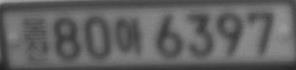0: (84, 15, 111, 59)
3: (185, 12, 213, 56)
6: (154, 13, 184, 57)
7: (247, 10, 275, 54)
8: (54, 15, 80, 60)
9: (215, 11, 244, 56)
아: (114, 16, 143, 55)
울산_V: (19, 15, 51, 61)
